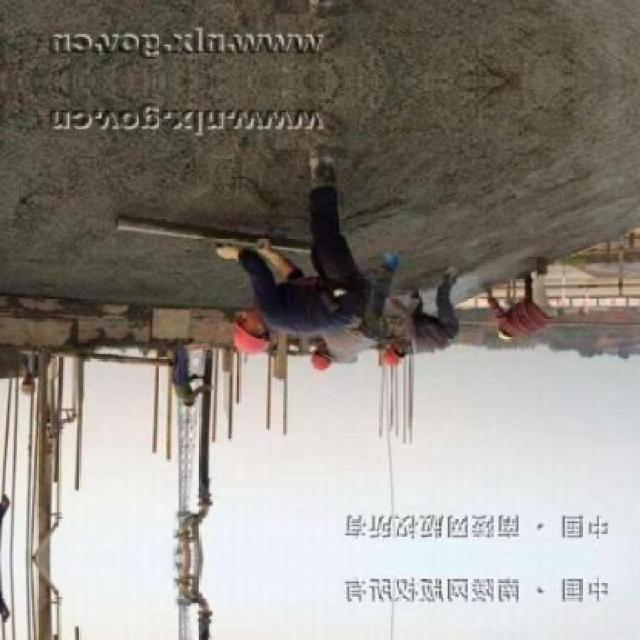con casco: (190, 296, 278, 361), (298, 344, 364, 390), (369, 334, 411, 370)
